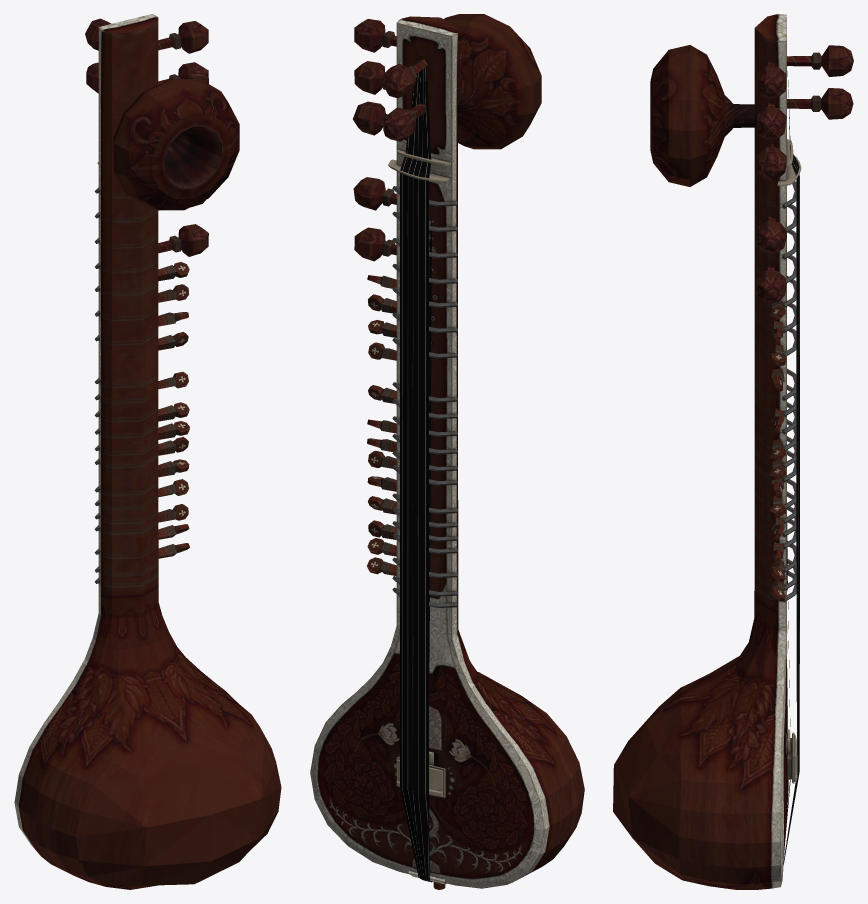
Rendered from sitar.glb.
3 renders of one model, left to right at view 1: azimuth 30°, elevation 25°; view 2: azimuth 150°, elevation 25°; view 3: azimuth 270°, elevation 25°, orthographic. The views are drawn at different scales.
Visible parts, largest first — view 1: sitar_body.mesh; view 2: sitar_body.mesh, sitar_strings.mesh; view 3: sitar_body.mesh, sitar_strings.mesh.
Part boxes in pixels (<box>): sitar_body.mesh: <box>14,14,281,889</box>; sitar_body.mesh: <box>310,14,584,889</box>; sitar_strings.mesh: <box>400,60,432,882</box>; sitar_body.mesh: <box>613,14,853,889</box>; sitar_strings.mesh: <box>783,64,799,863</box>.
Bounding box in the file's own units: 12.19 × 42.38 × 10.87.
Materials: 2 (2 with a texture image).
